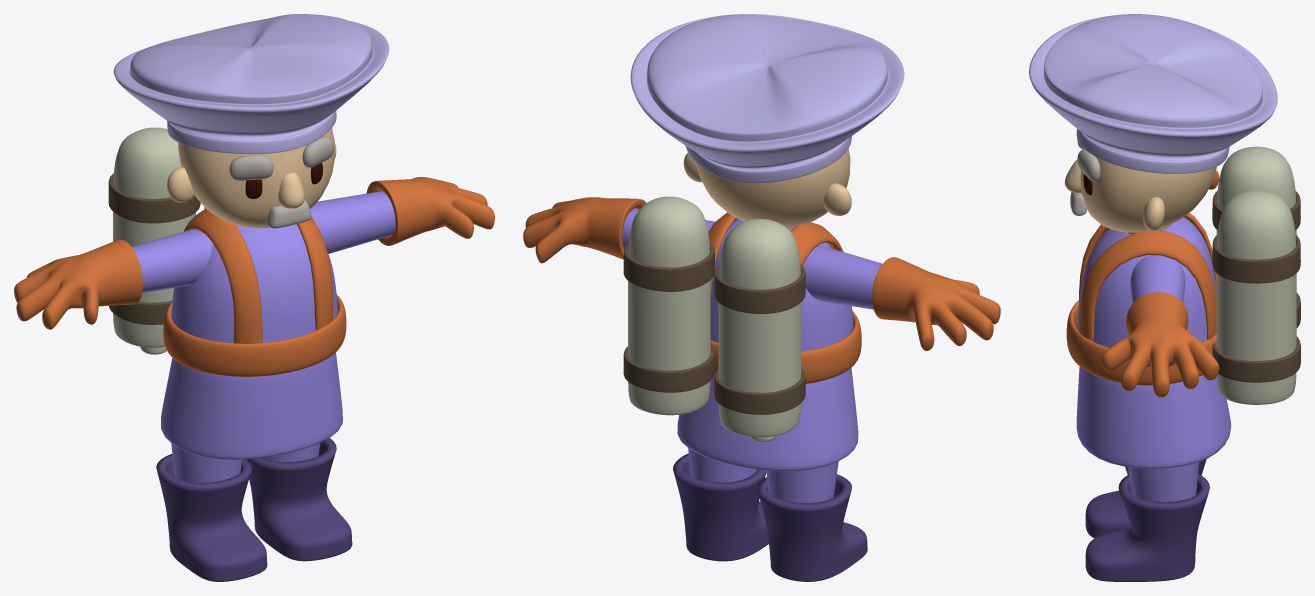
Rendered from Character C new.fbx.
The picture shows the model from 3 angles, left to right: view 1: azimuth 30°, elevation 25°; view 2: azimuth 150°, elevation 25°; view 3: azimuth 270°, elevation 25°; orthographic projection. The views are drawn at different scales.
Visible parts, largest first — view 1: Hat, Boots, Lowerbody, gloves, Upperbody, Arms, Cylinder tank.001, Face, belt, Bag handler, Tanker holder 1, Legs (+4 smaller); view 2: Hat, Boots, Cylinder tank.001, Cylinder tank, gloves, Lowerbody, Face, Tanker holder 1, Tanker holder, Arms, Legs, Upperbody (+3 smaller); view 3: Hat, Cylinder tank, Lowerbody, Boots, gloves, Face, Bag handler, Upperbody, Tanker holder, Cylinder tank.001, belt, Legs (+5 smaller).
Boxes of the visible parts, x1,y1,x2,y2 form: Hat: [113, 14, 389, 154]; Boots: [156, 438, 352, 581]; Lowerbody: [161, 352, 342, 459]; gloves: [14, 177, 494, 329]; Upperbody: [171, 224, 337, 343]; Arms: [132, 191, 395, 292]; Cylinder tank.001: [113, 127, 195, 347]; Face: [178, 128, 334, 228]; belt: [163, 294, 346, 376]; Bag handler: [183, 208, 333, 343]; Tanker holder 1: [108, 173, 200, 324]; Legs: [171, 443, 320, 482]; Hat: [630, 14, 904, 183]; Boots: [673, 453, 867, 581]; Cylinder tank.001: [718, 219, 801, 437]; Cylinder tank: [628, 196, 710, 415]; gloves: [523, 197, 1000, 350]; Lowerbody: [677, 368, 858, 471]; Face: [695, 149, 850, 227]; Tanker holder 1: [714, 264, 805, 414]; Tanker holder: [623, 242, 714, 392]; Arms: [622, 208, 882, 309]; Legs: [688, 448, 838, 502]; Upperbody: [710, 219, 853, 351]; Hat: [1029, 14, 1277, 173]; Cylinder tank: [1216, 190, 1296, 404]; Lowerbody: [1076, 366, 1231, 468]; Boots: [1085, 459, 1209, 581]; gloves: [1101, 170, 1219, 397]; Face: [1080, 148, 1216, 232]; Bag handler: [1079, 213, 1216, 341]; Upperbody: [1077, 217, 1216, 347]; Tanker holder: [1212, 234, 1300, 382]; Cylinder tank.001: [1216, 146, 1296, 234]; belt: [1066, 300, 1216, 385]; Legs: [1128, 462, 1198, 501].
Bounding box in the file's own units: 176 × 182 × 90.75.
